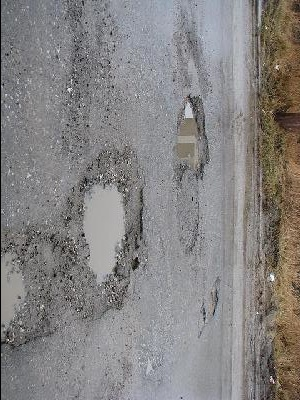pothole: (59, 145, 149, 327), (1, 220, 56, 351), (170, 92, 211, 182), (209, 276, 223, 317), (196, 301, 208, 336)
